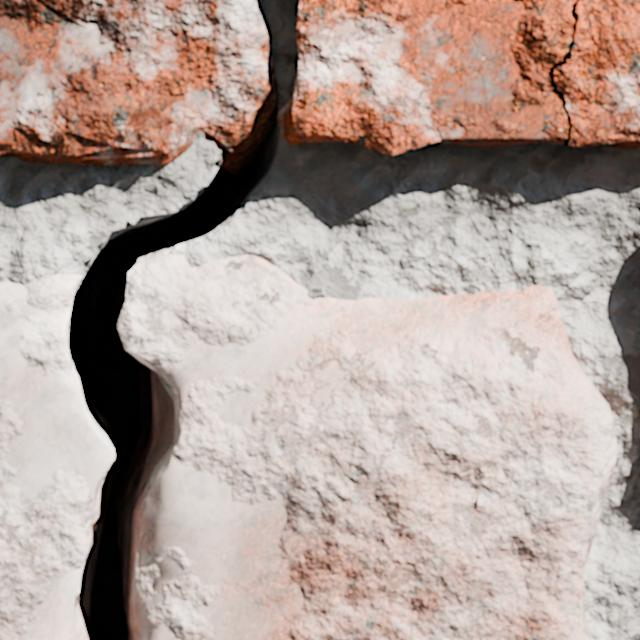broken_brick: (117, 249, 617, 639), (0, 273, 113, 639)
crack: (0, 0, 639, 639), (107, 449, 112, 453)
